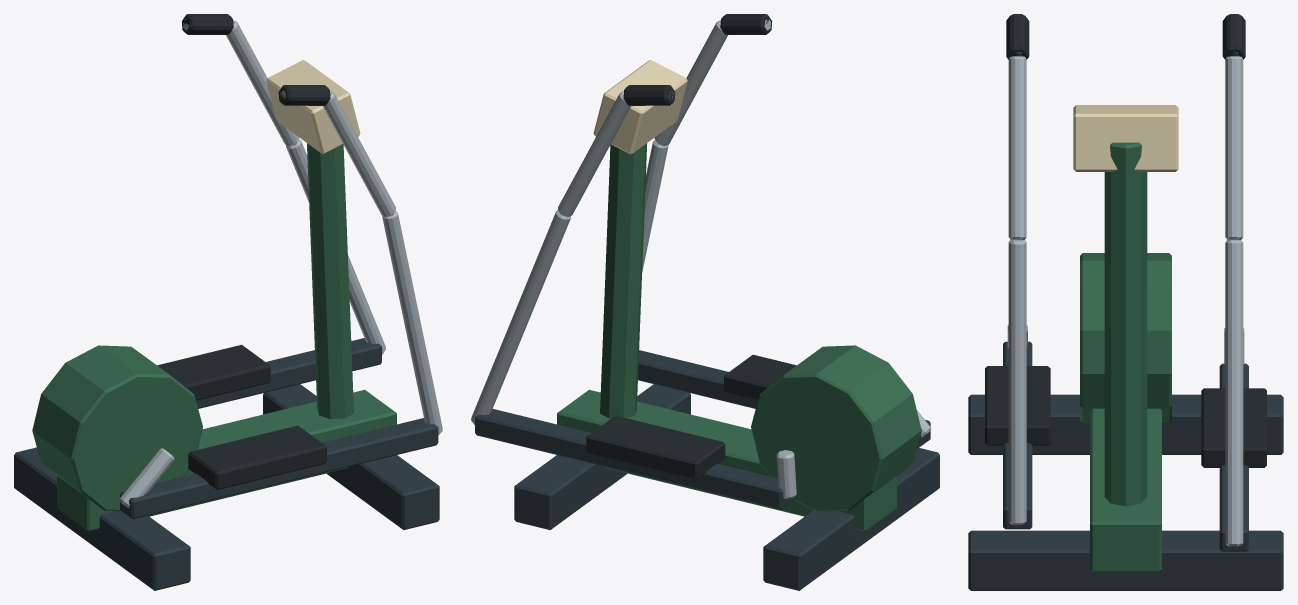
Rendered from b09_outdoor_elliptical.glb.
The picture shows the model from 3 angles, left to right: view 1: azimuth 30°, elevation 25°; view 2: azimuth 150°, elevation 25°; view 3: azimuth 270°, elevation 25°; orthographic projection. The views are drawn at different scales.
Parts seen in each view (by area): view 1: b09_outdoor_elliptical; view 2: b09_outdoor_elliptical; view 3: b09_outdoor_elliptical.
Boxes of the visible parts, box(x1,y1,x2,y2) form: b09_outdoor_elliptical: box(14, 14, 442, 590); b09_outdoor_elliptical: box(471, 14, 939, 590); b09_outdoor_elliptical: box(968, 14, 1283, 590).
Bounding box in the file's own units: 1.5 × 1.7 × 0.96.
